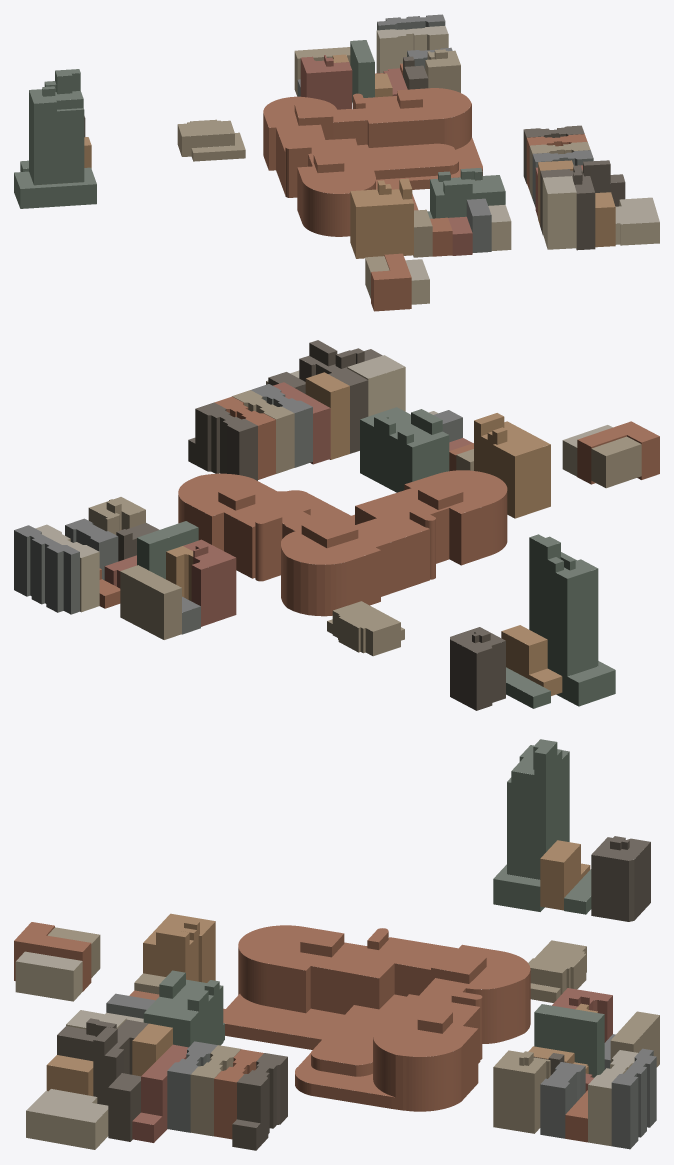
The model's file is tile-1_8.glb.
The picture shows the model from 3 angles, top to bottom: view 1: azimuth 30°, elevation 25°; view 2: azimuth 150°, elevation 25°; view 3: azimuth 270°, elevation 25°; orthographic projection. The views are drawn at different scales.
Parts seen in each view (by area): view 1: wall, roof; view 2: wall, roof; view 3: wall, roof.
Part boxes in pixels (bbox=[...]): wall: bbox=[14, 16, 659, 311]; roof: bbox=[14, 14, 659, 280]; wall: bbox=[14, 343, 659, 710]; roof: bbox=[14, 340, 659, 696]; wall: bbox=[14, 742, 659, 1150]; roof: bbox=[14, 739, 659, 1127].
Size of the model in its own units: 209 by 51.3 by 198.
